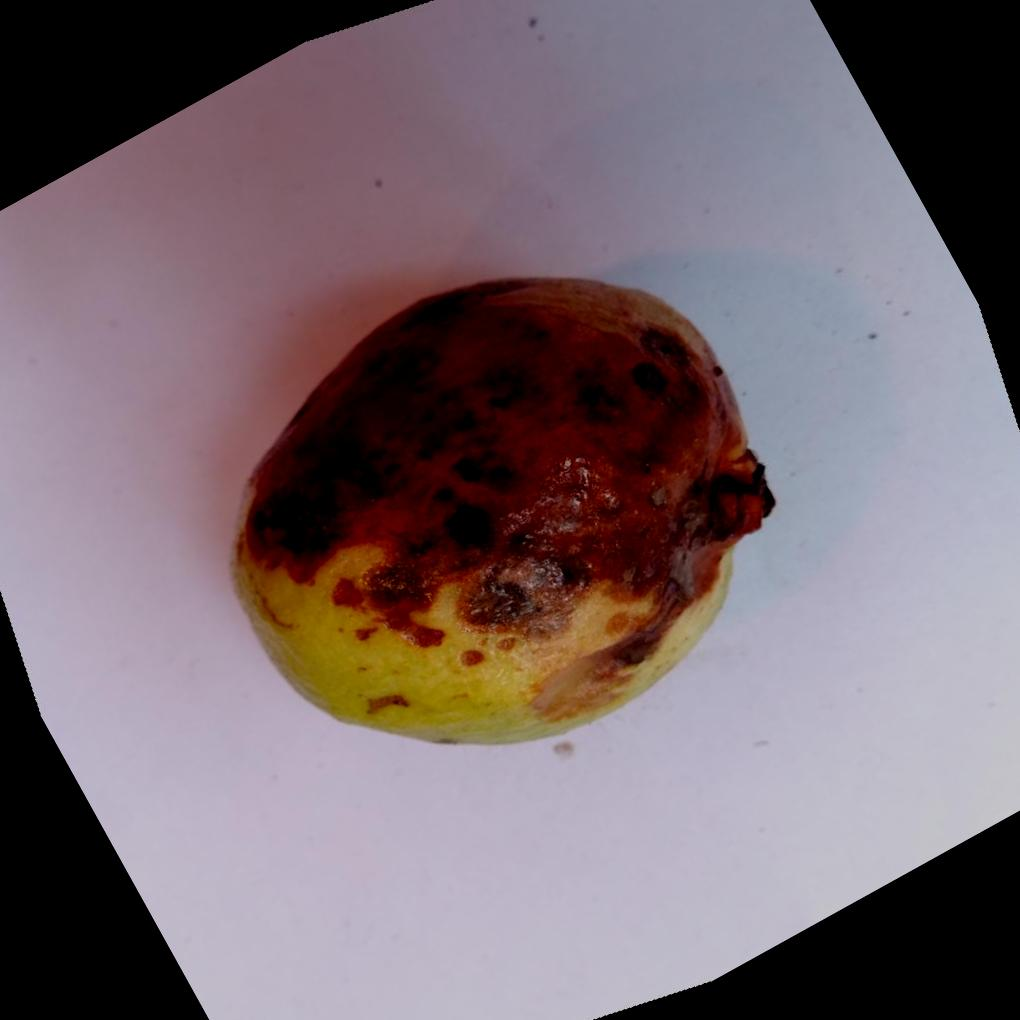FreshOrange: (231, 273, 781, 746)
